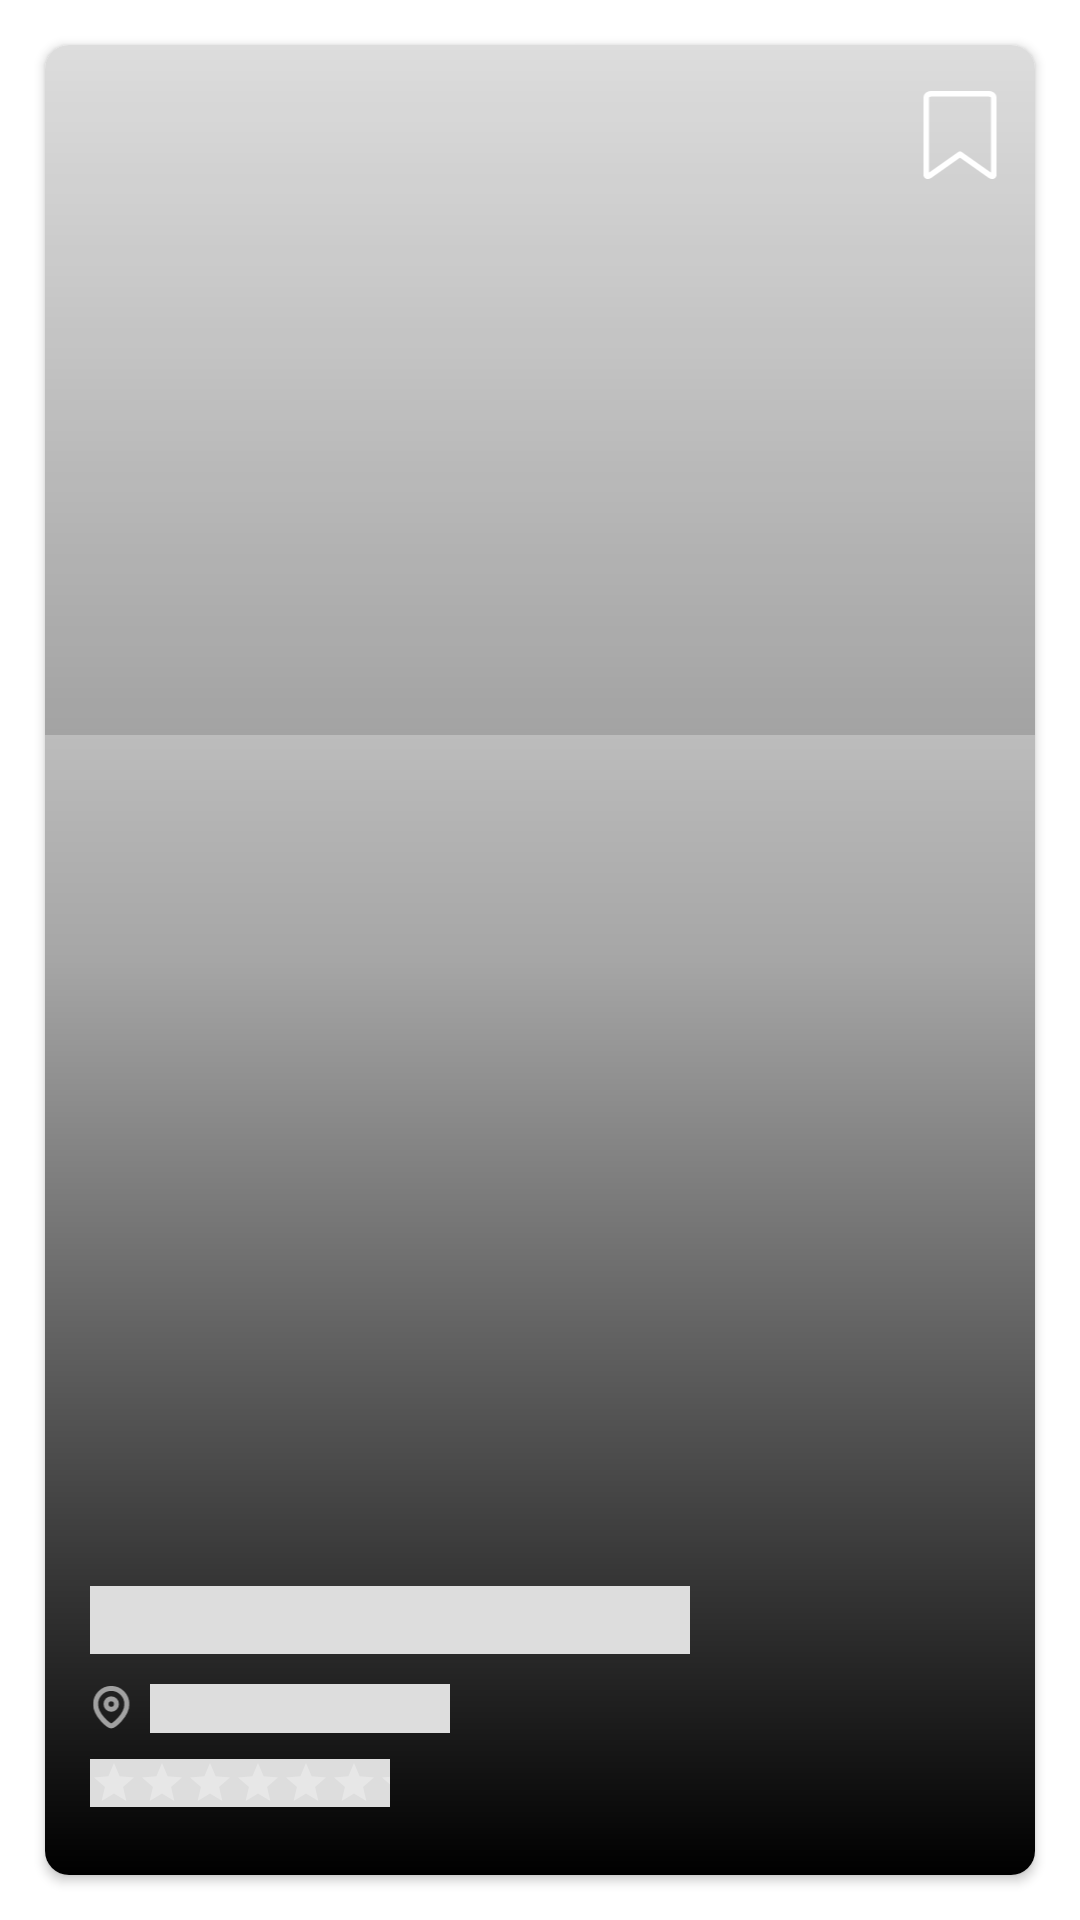

Icons on this 1080px×1920px Android screen, each with its box as (x1, y1, x2, y2):
bookmark: (924, 91, 996, 179)
location: (93, 1686, 130, 1729)
